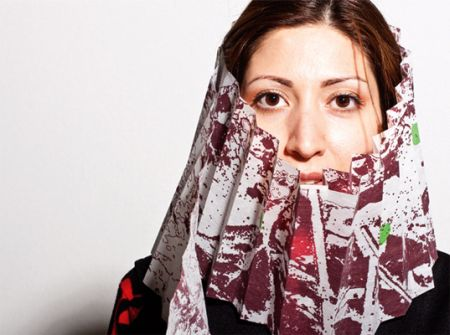face: (236, 28, 384, 209)
